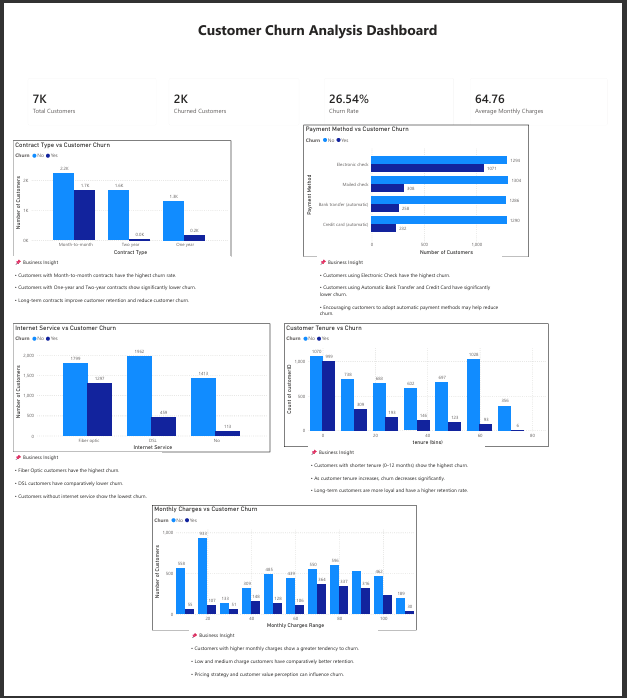

What the dashboard file says about the page in this screenshot:
{"tool":"powerbi","page":{"name":"Page 1","canvas":[1600,1800],"ordinal":0},"visuals":[{"type":"cardVisual","fields":{"Data":["WA_Fn-UseC_-Telco-Customer-Churn.Total Customers"]},"box":[23.5,159.7,375.7,159.7],"z":0},{"type":"cardVisual","fields":{"Data":["WA_Fn-UseC_-Telco-Customer-Churn.Churned Customers"]},"box":[399.2,159.7,380.4,159.7],"z":1000},{"type":"cardVisual","fields":{"Data":["WA_Fn-UseC_-Telco-Customer-Churn.Churn Rate"]},"box":[812.5,159.7,380.4,159.7],"z":2000},{"type":"cardVisual","fields":{"Data":["WA_Fn-UseC_-Telco-Customer-Churn.Average Monthly Charges"]},"box":[1202.4,159.7,399.2,159.7],"z":3000},{"type":"clusteredColumnChart","title":"Contract Type vs Customer Churn","fields":{"Category":["WA_Fn-UseC_-Telco-Customer-Churn.Contract"],"Y":["CountNonNull(WA_Fn-UseC_-Telco-Customer-Churn.customerID)"],"Series":["WA_Fn-UseC_-Telco-Customer-Churn.Churn"]},"box":[0,342.9,582.4,310],"z":4000},{"type":"clusteredBarChart","title":"Payment Method vs Customer Churn","fields":{"Category":["WA_Fn-UseC_-Telco-Customer-Churn.PaymentMethod"],"Y":["CountNonNull(WA_Fn-UseC_-Telco-Customer-Churn.customerID)"],"Series":["WA_Fn-UseC_-Telco-Customer-Churn.Churn"]},"box":[775,300.6,601.2,352.3],"z":5000},{"type":"textbox","box":[0,652.9,582.4,178.5],"z":6000},{"type":"textbox","box":[812.5,652.9,493.2,173.8],"z":7000},{"type":"clusteredColumnChart","title":"Internet Service vs Customer Churn","fields":{"Category":["WA_Fn-UseC_-Telco-Customer-Churn.InternetService"],"Y":["CountNonNull(WA_Fn-UseC_-Telco-Customer-Churn.customerID)"],"Series":["WA_Fn-UseC_-Telco-Customer-Churn.Churn"]},"box":[0,831.3,685.7,342.9],"z":8000},{"type":"textbox","box":[0,1174.2,399.2,187.9],"z":9000},{"type":"clusteredColumnChart","title":"Customer Tenure vs Churn","fields":{"Category":["WA_Fn-UseC_-Telco-Customer-Churn.tenure (bins)"],"Y":["CountNonNull(WA_Fn-UseC_-Telco-Customer-Churn.customerID)"],"Series":["WA_Fn-UseC_-Telco-Customer-Churn.Churn"]},"box":[723.3,831.3,704.5,328.8],"z":10000},{"type":"textbox","box":[789.1,1160.1,469.7,150.3],"z":11000},{"type":"clusteredColumnChart","title":"Monthly Charges vs Customer Churn","fields":{"Category":["WA_Fn-UseC_-Telco-Customer-Churn.MonthlyCharges (bins)"],"Y":["CountNonNull(WA_Fn-UseC_-Telco-Customer-Churn.customerID)"],"Series":["WA_Fn-UseC_-Telco-Customer-Churn.Churn"]},"box":[371,1315.1,704.5,333.5],"z":12000},{"type":"textbox","box":[469.7,1648.6,502.6,150.3],"z":13000},{"type":"textbox","box":[23.5,0,1578.1,159.7],"z":14000}]}

Visuals, with their boxes in screenshot pixels (x1, y1, x2, y2), scaled from the page's 1600x1800 canvas onto the 627x698 screenshot:
cardVisual - WA_Fn-UseC_-Telco-Customer-Churn.Total Customers: 9/62/156/124
cardVisual - WA_Fn-UseC_-Telco-Customer-Churn.Churned Customers: 156/62/306/124
cardVisual - WA_Fn-UseC_-Telco-Customer-Churn.Churn Rate: 318/62/467/124
cardVisual - WA_Fn-UseC_-Telco-Customer-Churn.Average Monthly Charges: 471/62/626/124
"Contract Type vs Customer Churn" clusteredColumnChart: 0/133/228/253
"Payment Method vs Customer Churn" clusteredBarChart: 304/117/539/253
textbox: 0/253/228/322
textbox: 318/253/512/321
"Internet Service vs Customer Churn" clusteredColumnChart: 0/322/269/455
textbox: 0/455/156/528
"Customer Tenure vs Churn" clusteredColumnChart: 283/322/560/450
textbox: 309/450/493/508
"Monthly Charges vs Customer Churn" clusteredColumnChart: 145/510/421/639
textbox: 184/639/381/697
textbox: 9/0/626/62
